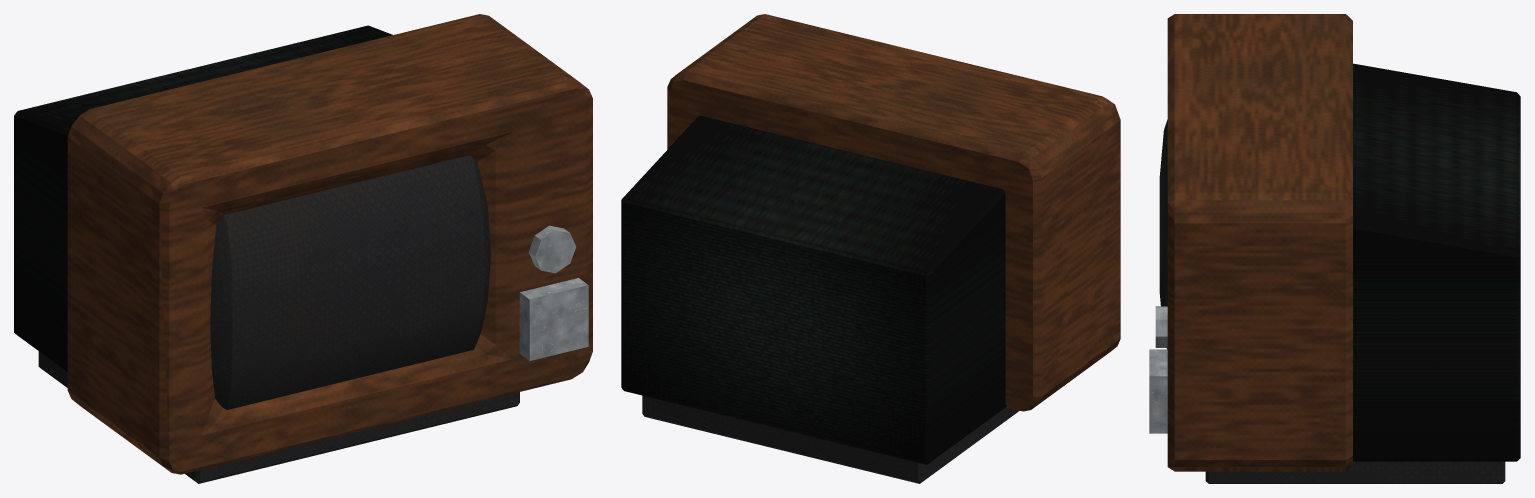
The picture shows the model from 3 angles, left to right: view 1: azimuth 30°, elevation 25°; view 2: azimuth 150°, elevation 25°; view 3: azimuth 270°, elevation 25°; orthographic projection. The views are drawn at different scales.
Visible parts, largest first — view 1: TV, TV.003, TV.001, TV.002, TV.004, TV.005; view 2: TV.001, TV, TV.002; view 3: TV, TV.001, TV.002, TV.004, TV.003, TV.005.
Boxes of the visible parts, x1=… form: TV: x1=67, y1=14, x2=592, y2=474; TV.003: x1=210, y1=155, x2=490, y2=409; TV.001: x1=14, y1=25, x2=392, y2=371; TV.002: x1=38, y1=351, x2=519, y2=483; TV.004: x1=519, y1=278, x2=588, y2=360; TV.005: x1=528, y1=225, x2=575, y2=273; TV.001: x1=621, y1=115, x2=1006, y2=464; TV: x1=667, y1=14, x2=1120, y2=411; TV.002: x1=642, y1=395, x2=1019, y2=483; TV: x1=1167, y1=14, x2=1352, y2=471; TV.001: x1=1353, y1=63, x2=1520, y2=461; TV.002: x1=1205, y1=461, x2=1505, y2=483; TV.004: x1=1149, y1=349, x2=1167, y2=433; TV.003: x1=1159, y1=119, x2=1167, y2=349; TV.005: x1=1155, y1=306, x2=1167, y2=347.
Bounding box in the file's own units: 0.6059 × 0.4402 × 0.481.
Materials: 4 (4 with a texture image).
